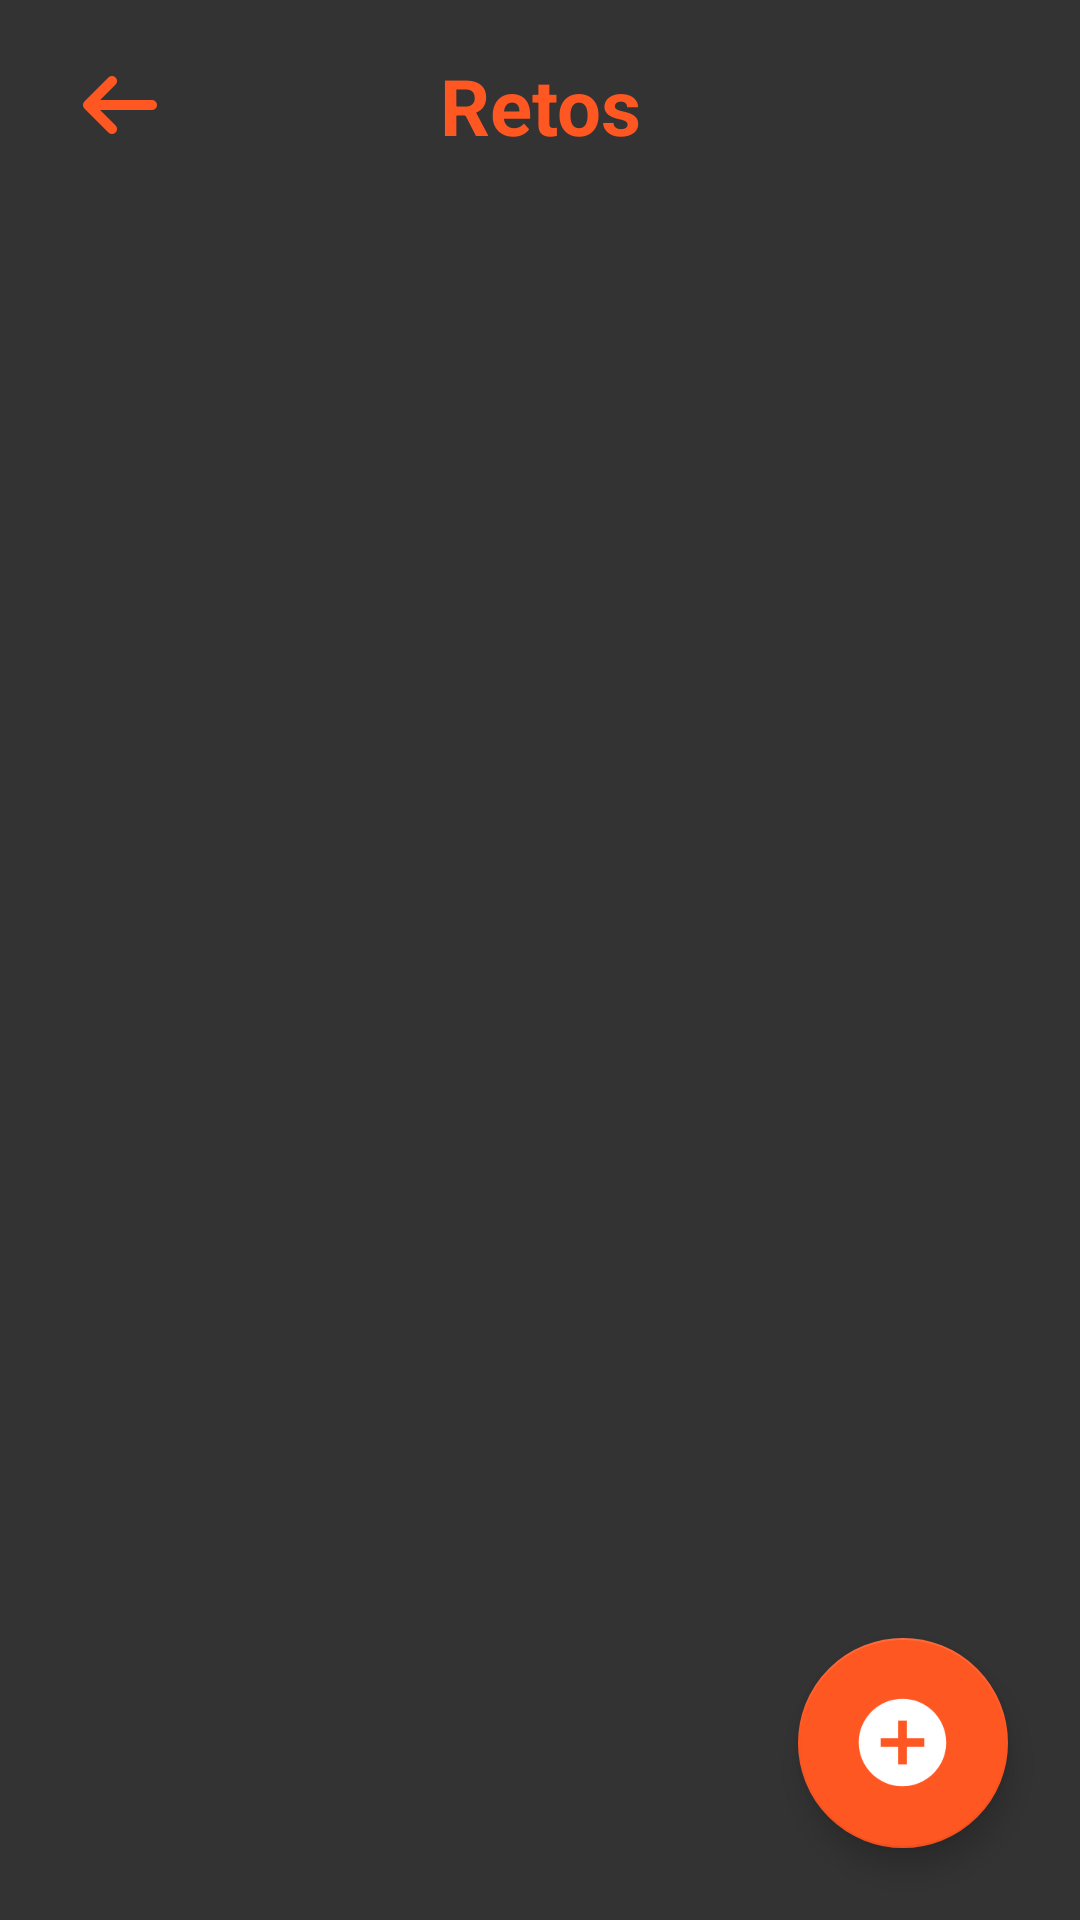

Icon click points for this 1080x1920 phone screenshot, format [x,y]:
Volver: [120,105]
